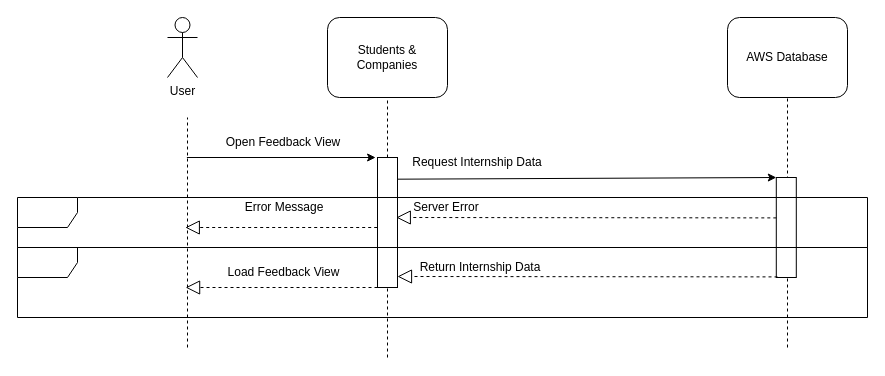
Some shapes in this 885 by 376 pixel diagram are drawn without their labels. The shapes that lost their labels are listed below. From the top down, each one's centre as x and y in pixels, then its label:
pixel 442 222: ALT
pixel 442 282: IF NOT
